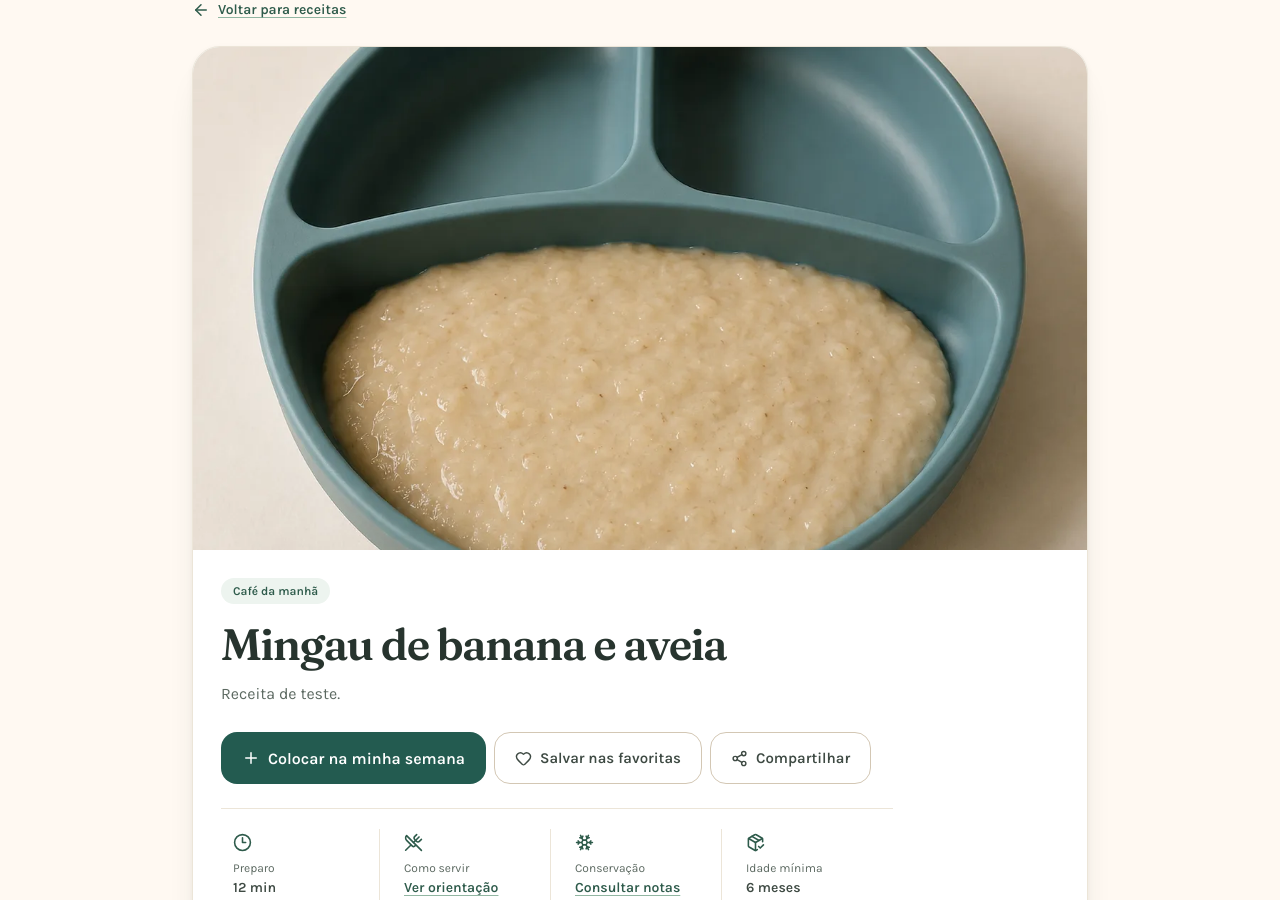
Scenario: abre o planejador no dia de hoje quando a semana de contexto é a atual
Click the button "Colocar na minha semana": (354, 758) [221, 732, 486, 784]
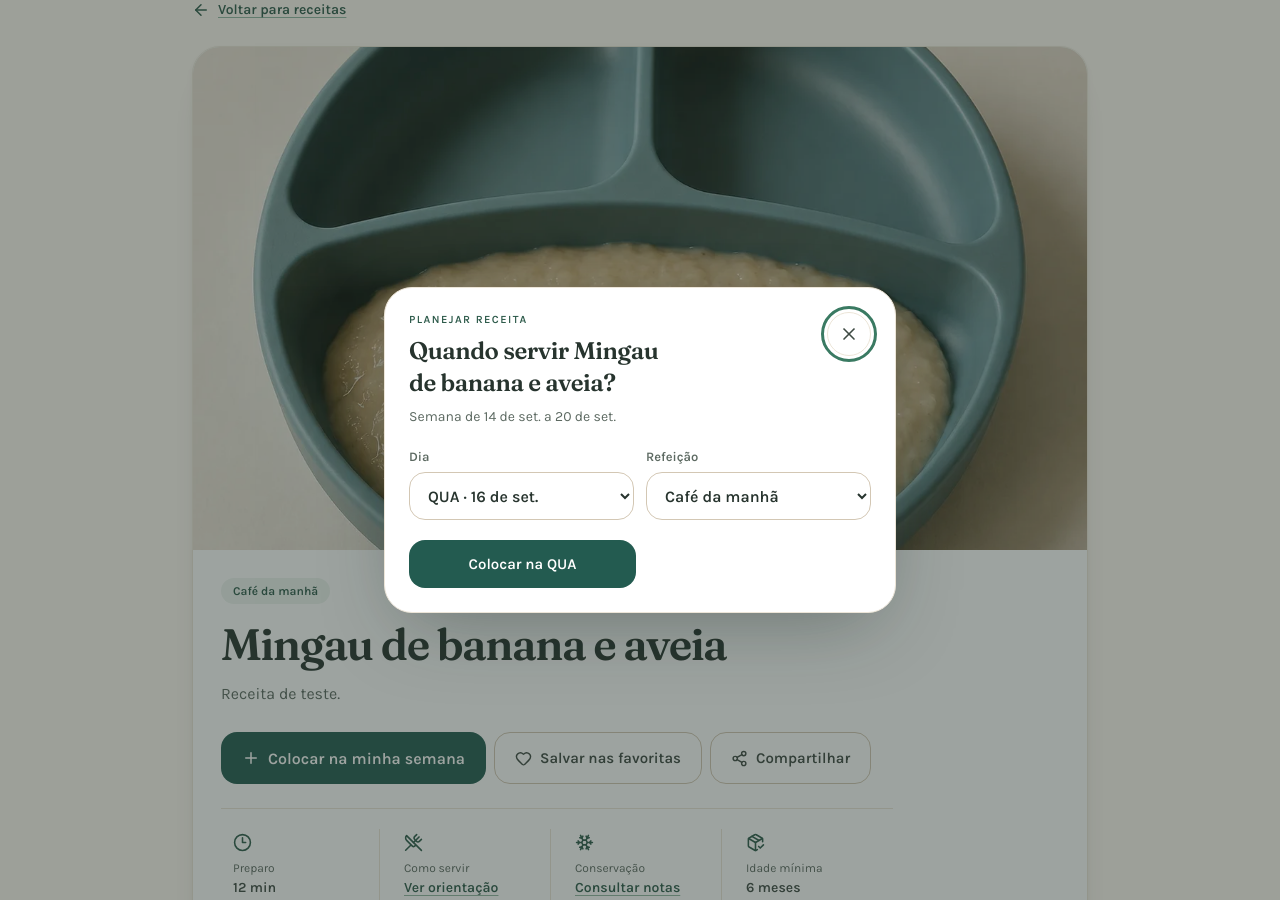
Now the dropdown labelled "Dia" shows "QUA · 16 de set.", box [409, 472, 634, 520]
